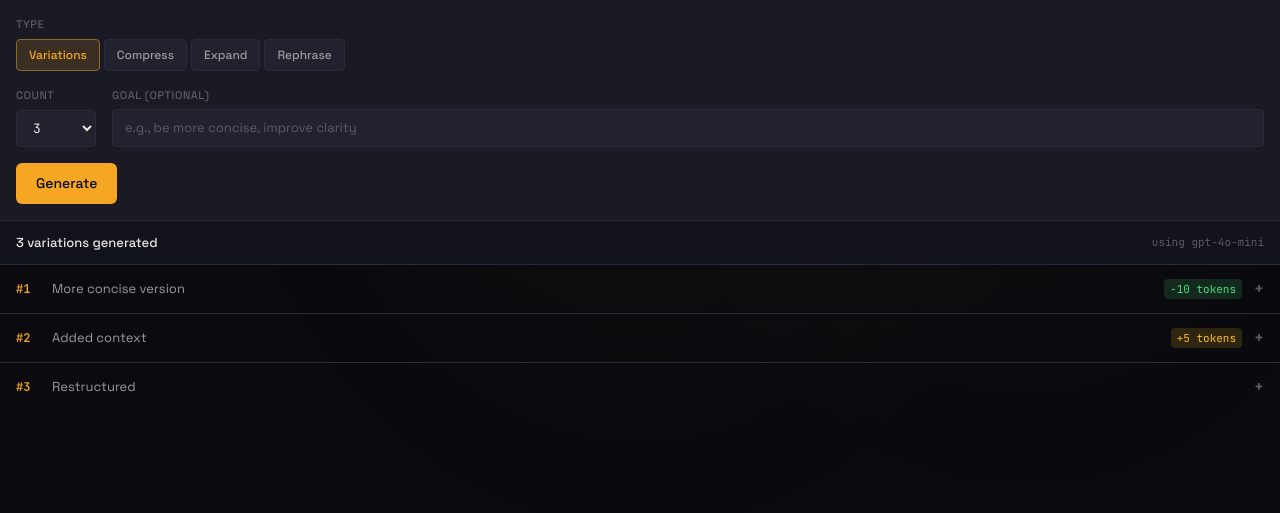
GeneratePanel › collapses variation when clicked again
# Click to expand
Click the text "More concise version".
click(118, 289)  # box [52,280,185,297]
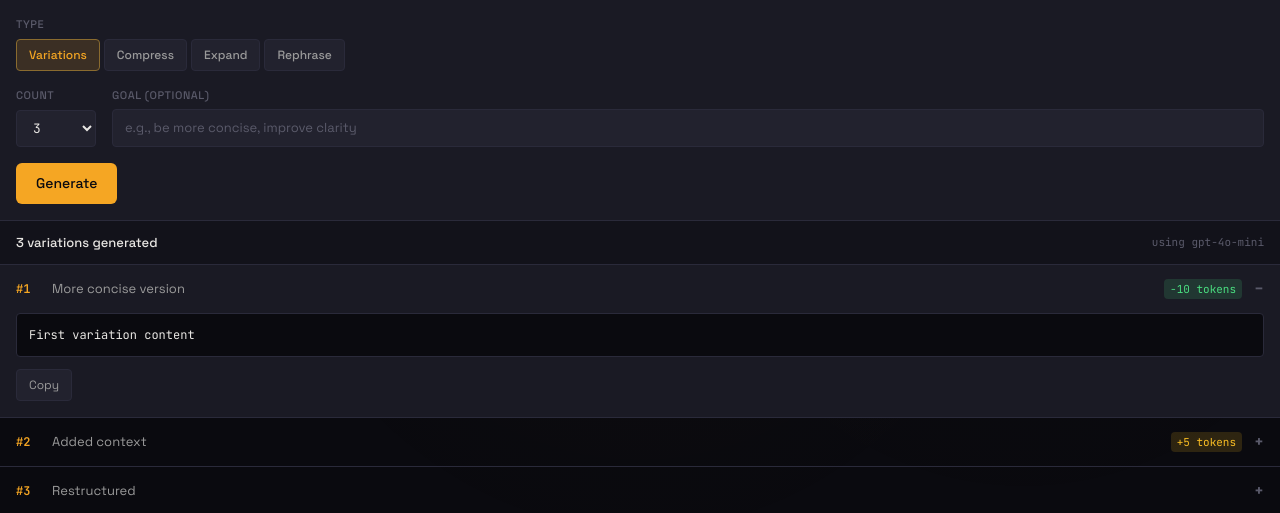
Now the text "First variation content" is shown, box [16,313,1264,357]
# Click to collapse
Click the text "More concise version".
click(118, 289)  # box [52,280,185,297]
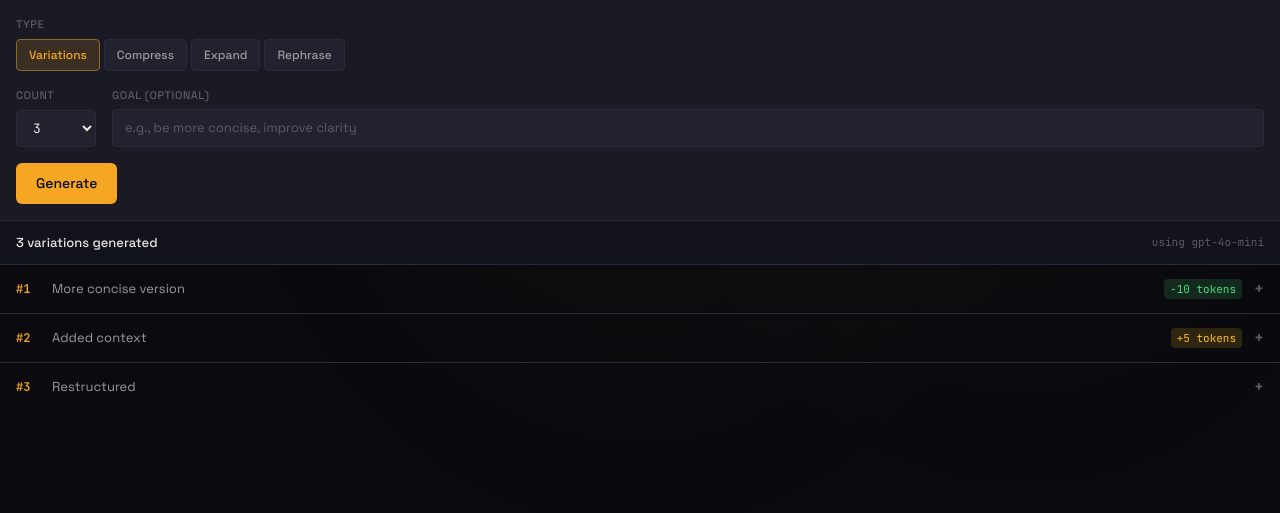
Now the text "First variation content" is gone
